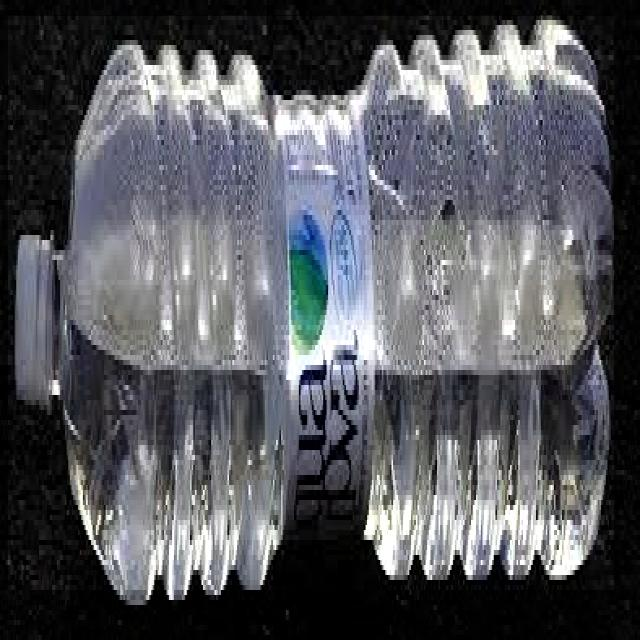half-bottle: (8, 16, 614, 590)
